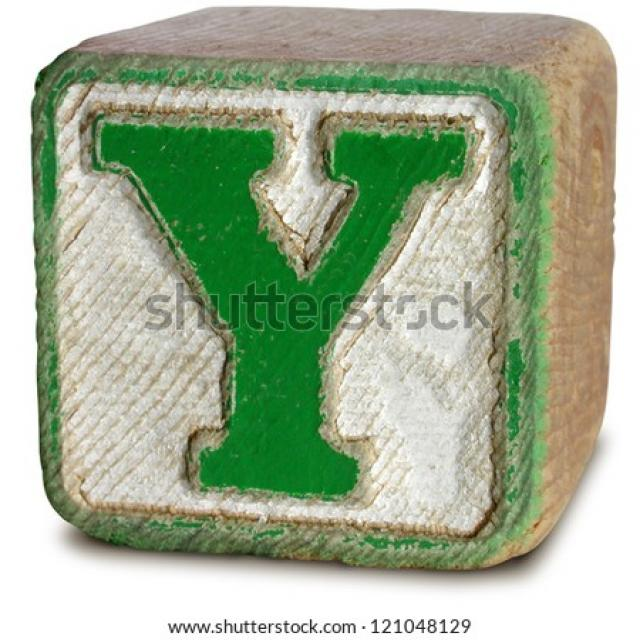Y: (81, 93, 486, 510)
